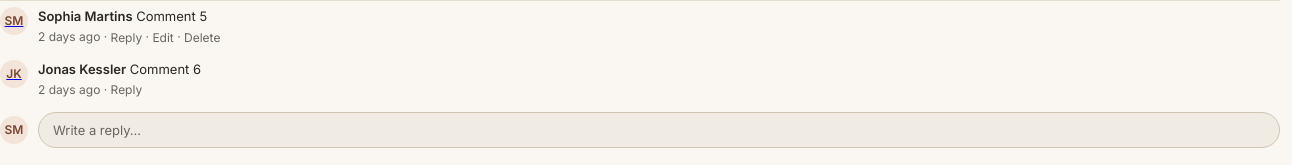
it: CommentThread › deletes a comment at once, drops the count and keeps focus in the thread
Click the button "Delete" at (202, 38), box [184,26,220,50]
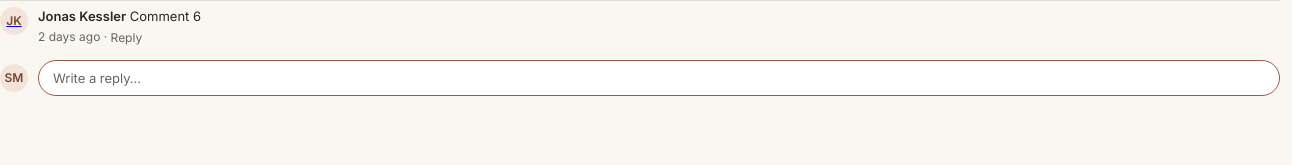
Check: the text "Comment 5" is gone
